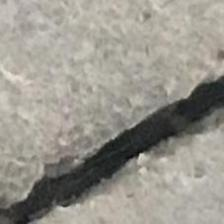Crack: (2, 66, 224, 224)
